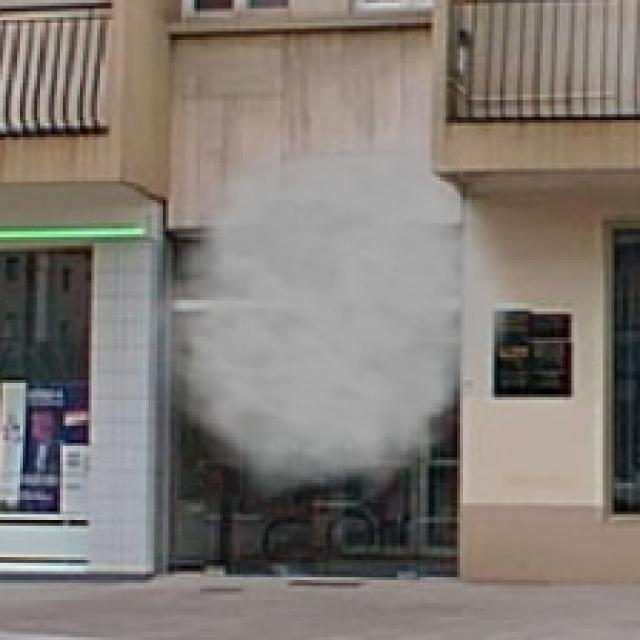smoke: (131, 111, 526, 503)
